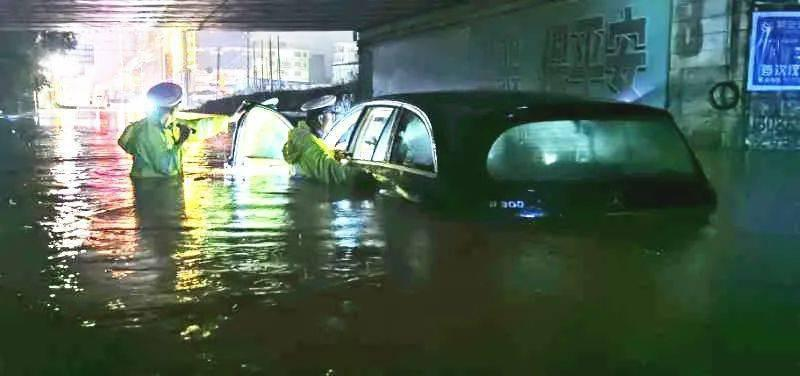water: (0, 103, 798, 373)
